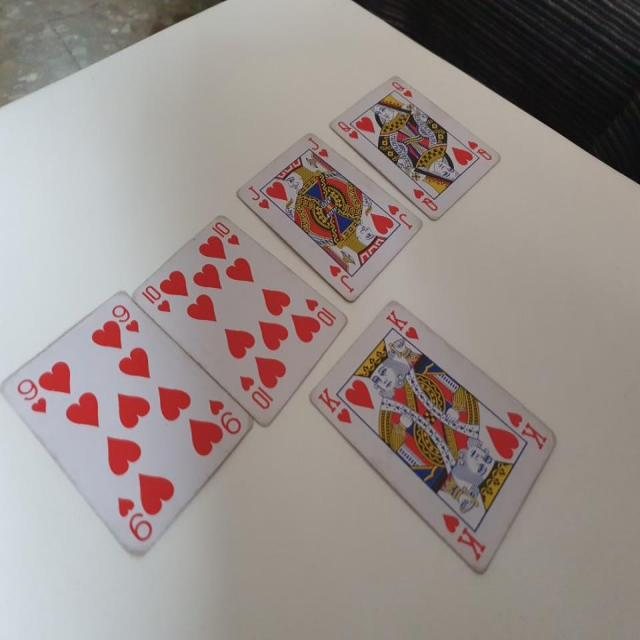10 Hearts: (124, 209, 349, 438)
9 Hearts: (1, 290, 256, 573)
J Hearts: (233, 130, 424, 306)
K Hearts: (308, 302, 558, 590)
Q Hearts: (331, 65, 503, 226)
